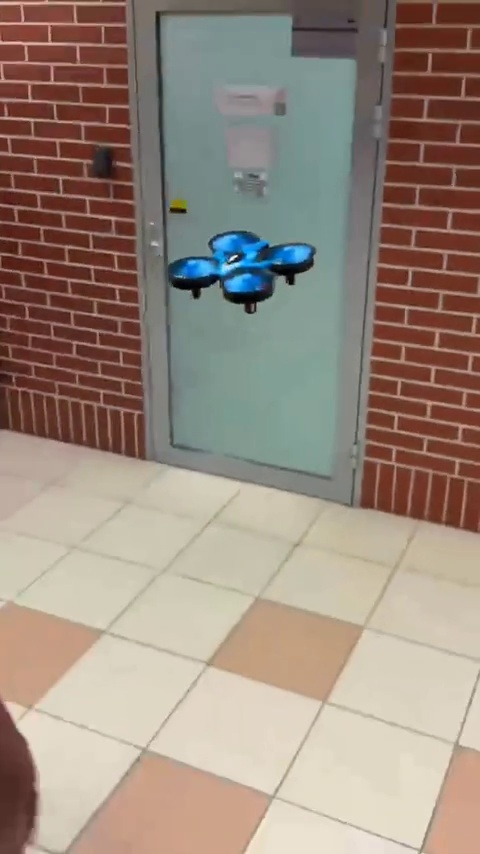drone: (159, 231, 316, 309)
